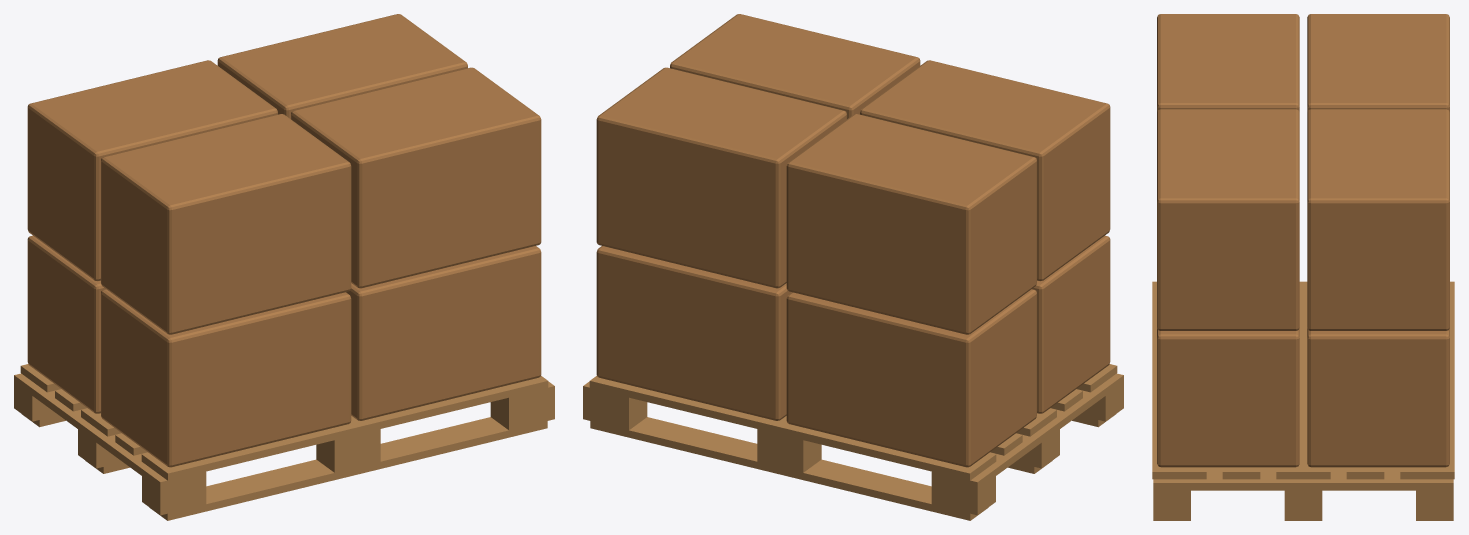
The model's file is pallet.glb.
3 renders of one model, left to right at view 1: azimuth 30°, elevation 25°; view 2: azimuth 150°, elevation 25°; view 3: azimuth 270°, elevation 25°, orthographic. The views are drawn at different scales.
Visible parts, largest first — view 1: Part_Caja_5, Part_Caja_6, Part_Caja_1, Part_Caja_2, Part_Pallet, Part_Caja_7, Part_Caja_8, Part_Caja_3; view 2: Part_Caja_7, Part_Caja_8, Part_Caja_3, Part_Caja_4, Part_Pallet, Part_Caja_5, Part_Caja_6, Part_Caja_1; view 3: Part_Caja_6, Part_Caja_8, Part_Caja_2, Part_Caja_4, Part_Pallet, Part_Caja_5, Part_Caja_7.
Part boxes in pixels (x1=…): Part_Caja_5: x1=101, y1=114, x2=351, y2=334; Part_Caja_6: x1=291, y1=67, x2=541, y2=288; Part_Caja_1: x1=101, y1=289, x2=351, y2=467; Part_Caja_2: x1=346, y1=246, x2=541, y2=420; Part_Pallet: x1=14, y1=364, x2=554, y2=520; Part_Caja_7: x1=27, y1=60, x2=277, y2=281; Part_Caja_8: x1=217, y1=14, x2=467, y2=118; Part_Caja_3: x1=27, y1=235, x2=105, y2=413; Part_Caja_7: x1=786, y1=114, x2=1036, y2=334; Part_Caja_8: x1=596, y1=67, x2=846, y2=288; Part_Caja_3: x1=786, y1=289, x2=1036, y2=467; Part_Caja_4: x1=596, y1=246, x2=791, y2=420; Part_Pallet: x1=583, y1=364, x2=1123, y2=520; Part_Caja_5: x1=860, y1=60, x2=1110, y2=281; Part_Caja_6: x1=670, y1=14, x2=920, y2=118; Part_Caja_1: x1=1032, y1=235, x2=1110, y2=413; Part_Caja_6: x1=1157, y1=109, x2=1299, y2=330; Part_Caja_8: x1=1307, y1=109, x2=1449, y2=330; Part_Caja_2: x1=1157, y1=328, x2=1299, y2=467; Part_Caja_4: x1=1307, y1=328, x2=1449, y2=467; Part_Pallet: x1=1152, y1=281, x2=1454, y2=520; Part_Caja_5: x1=1157, y1=14, x2=1299, y2=111; Part_Caja_7: x1=1307, y1=14, x2=1449, y2=111.
Bounding box in the file's own units: 1.25 × 0.939 × 0.805.
